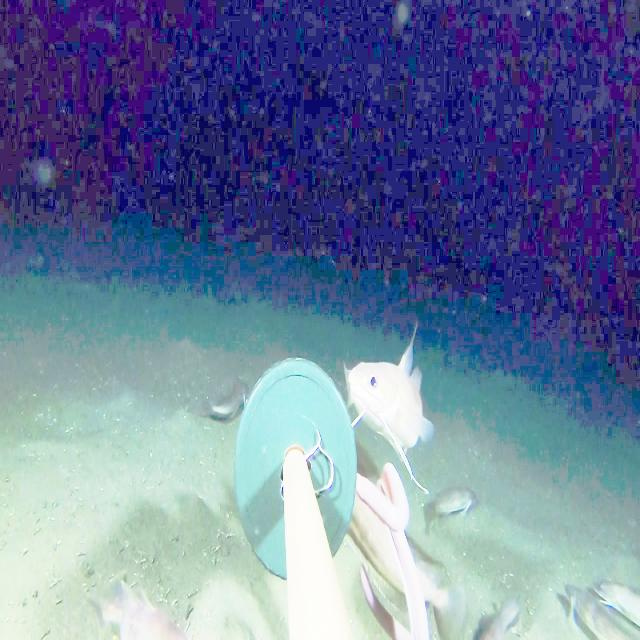eel: (352, 459, 433, 639)
fish: (339, 497, 456, 628), (346, 339, 441, 456), (89, 576, 189, 640), (554, 569, 640, 639), (458, 576, 542, 640), (422, 466, 487, 530), (198, 368, 245, 432), (594, 570, 640, 621)
pole: (233, 358, 357, 590)
